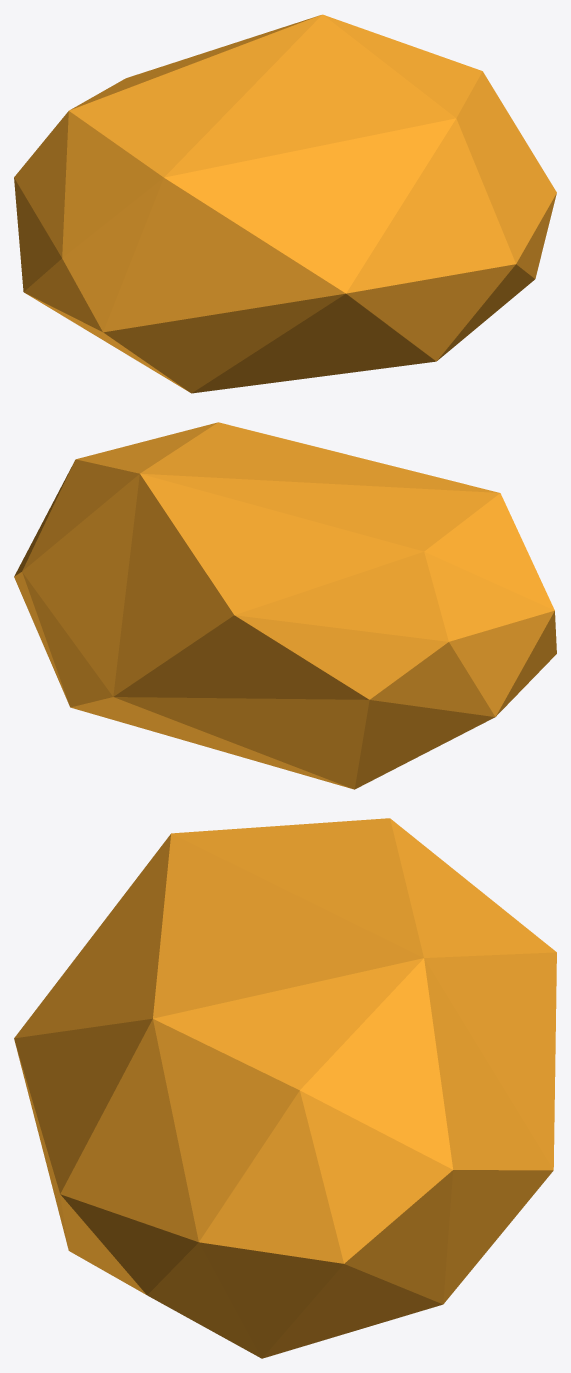
The model's file is SM_Potato_C.fbx.
3 views of the same model, one above another, from view 1: azimuth 30°, elevation 25°; view 2: azimuth 150°, elevation 25°; view 3: azimuth 270°, elevation 25° (orthographic). The views are drawn at different scales.
Parts seen in each view (by area): view 1: potato-c; view 2: potato-c; view 3: potato-c.
Part boxes in pixels (<box>): potato-c: <box>14,14,556,393</box>; potato-c: <box>14,422,556,789</box>; potato-c: <box>14,818,556,1358</box>.
Size of the model in its own units: 0.1913 by 0.1089 by 0.143.
